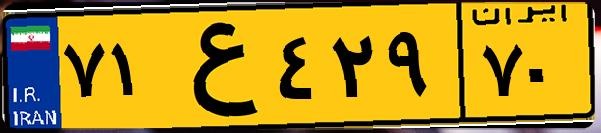0: (525, 38, 570, 115)
1: (110, 28, 158, 98)
2: (330, 28, 385, 110)
4: (270, 28, 330, 110)
7: (57, 26, 110, 100), (475, 38, 525, 113)
9: (385, 28, 445, 110)
ع: (158, 12, 270, 120)
